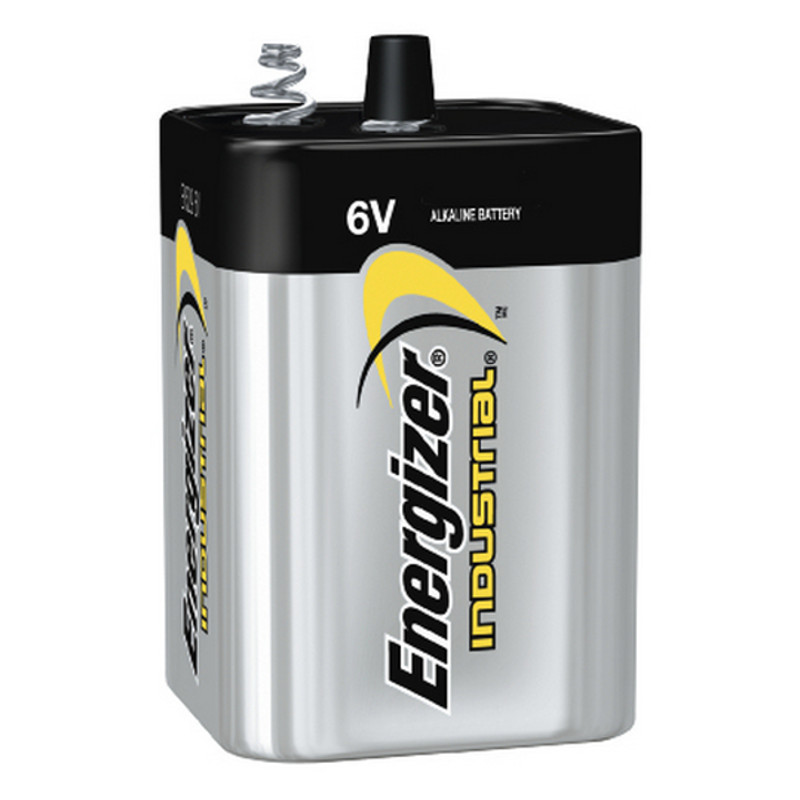6V: (134, 35, 729, 770)
